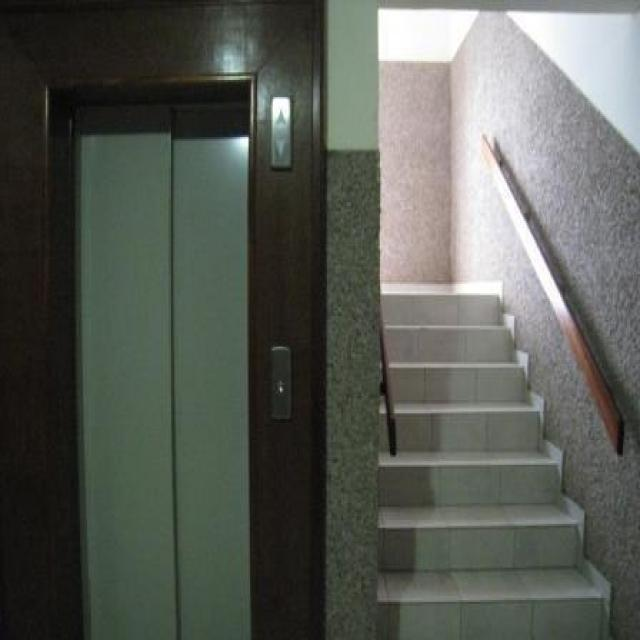AVOID: (380, 293, 604, 640)
